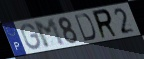2: (114, 7, 137, 35)
8: (58, 16, 80, 45)
D: (73, 13, 98, 43)
G: (20, 22, 42, 51)
M: (32, 18, 67, 50)
R: (91, 8, 120, 41)
